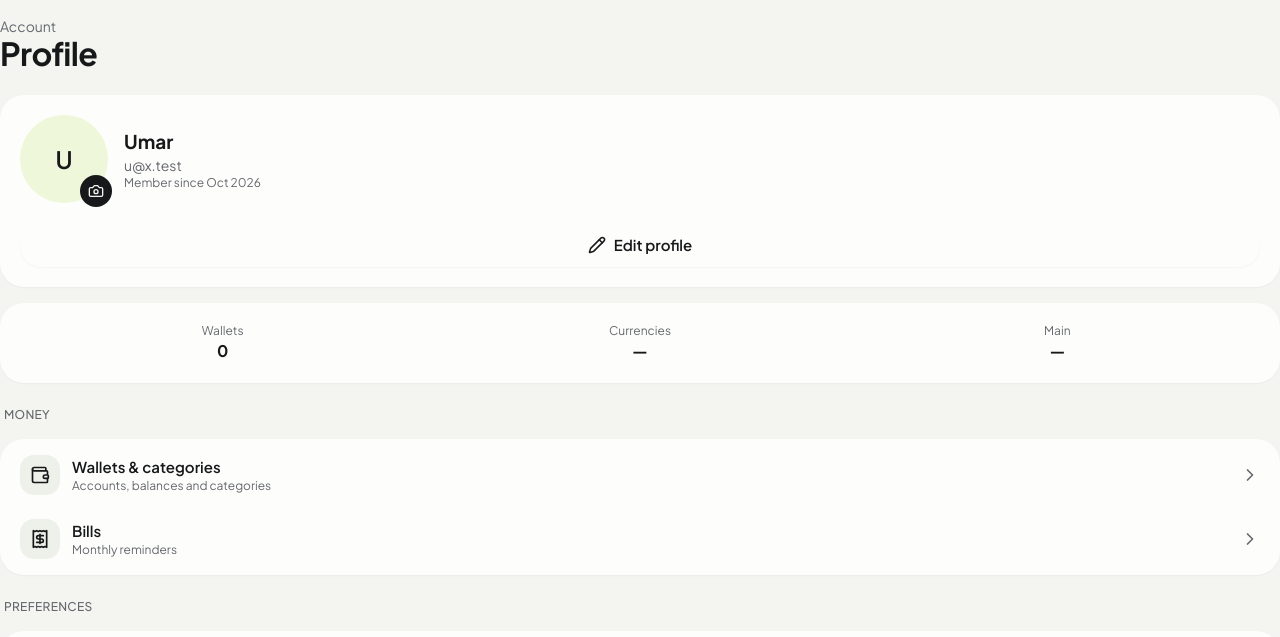
Face ID lock switch › reopens Edit profile with the saved values, not stale edits
The width and height of the screenshot is (1280, 637).
Click the button "Edit profile" at (640, 245), box [20,223,1260,267]
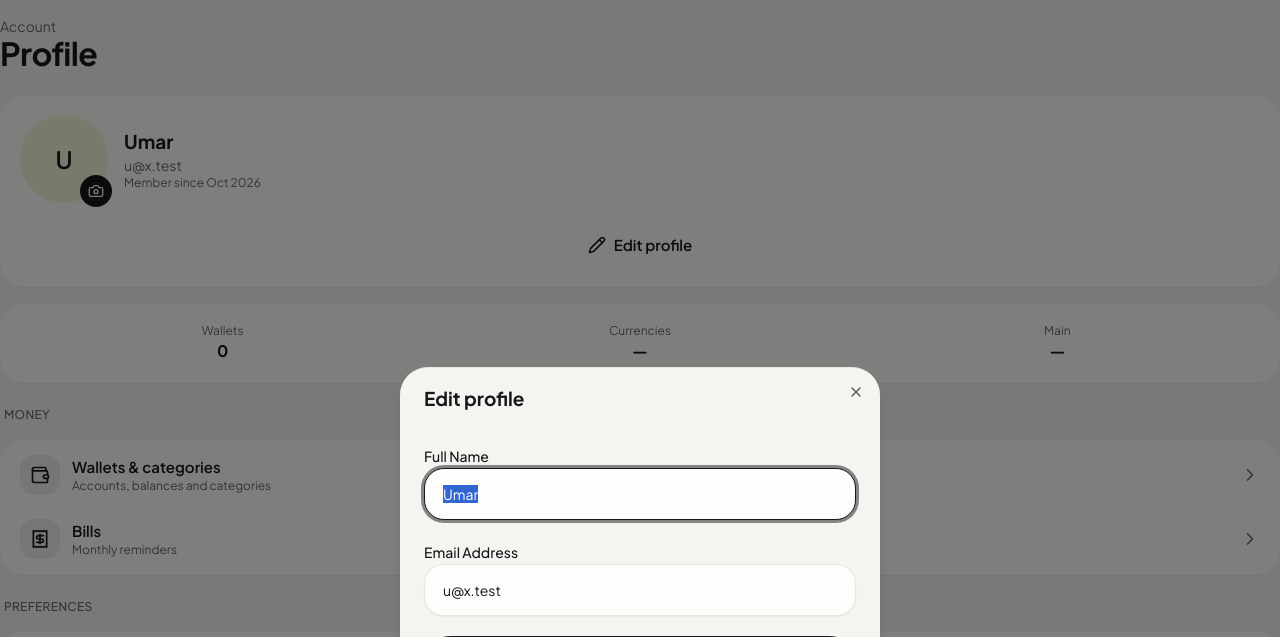
Replace the text in the field labelled "Full Name" with "Typed" at (640, 494), box [424,468,856,520]
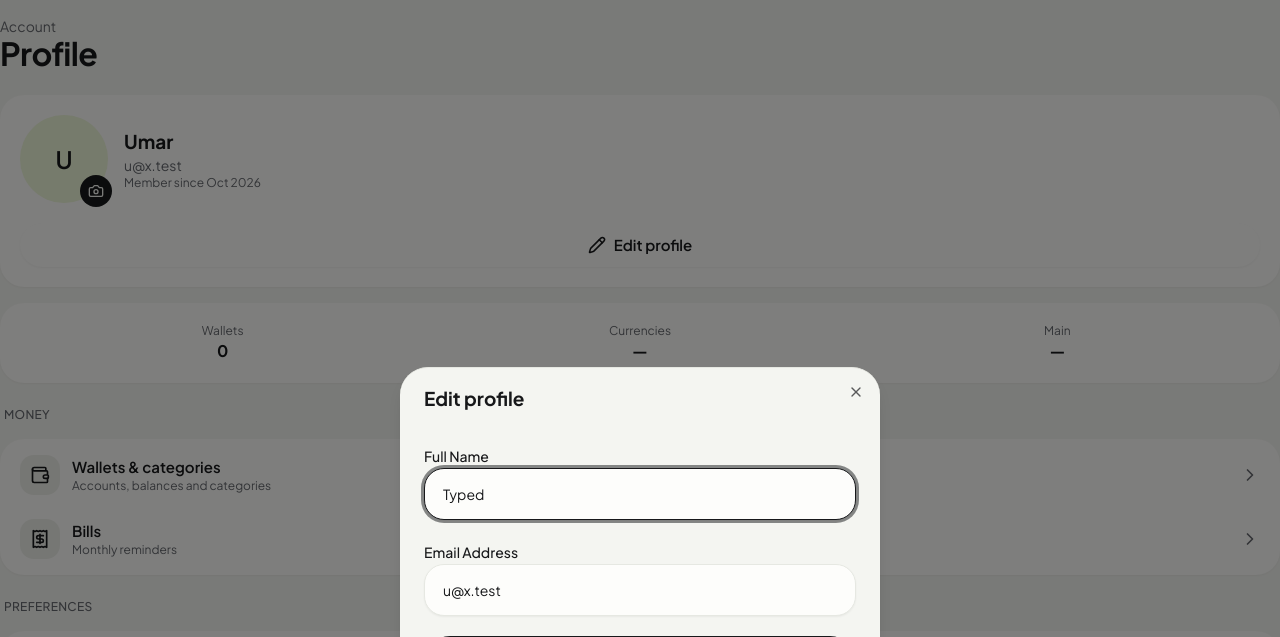
Press Escape in the field labelled "Full Name", box [424,468,856,520]
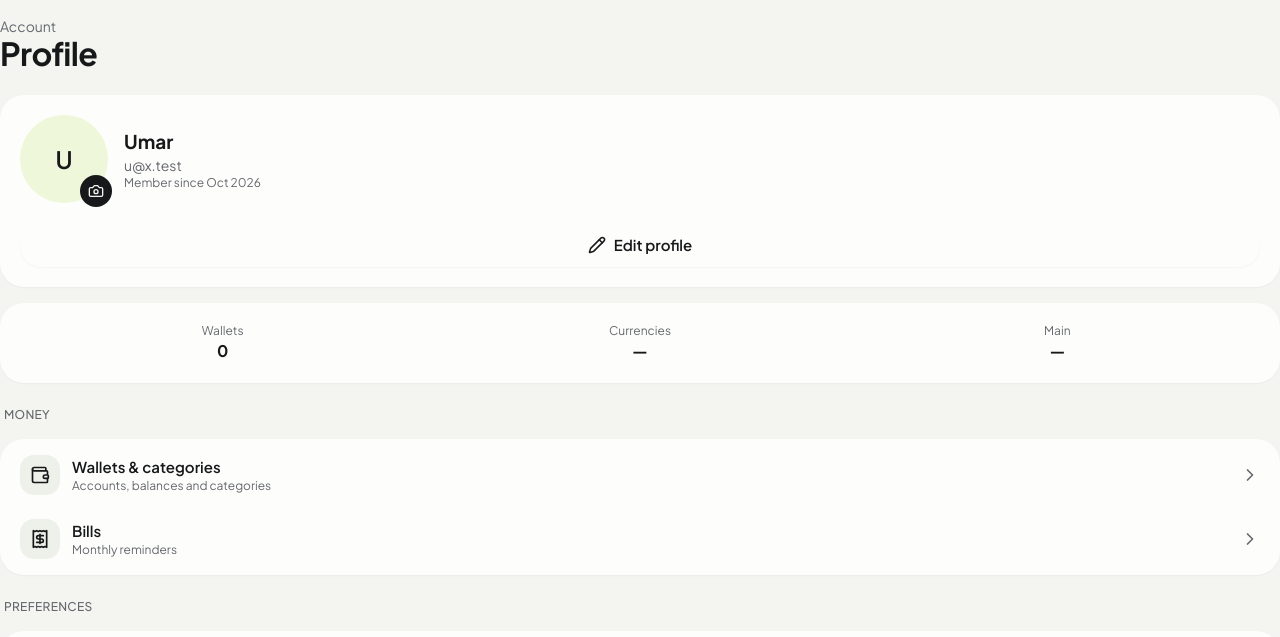
Check: the label labelled "Full Name" is gone
Click the button "Edit profile" at (640, 245), box [20,223,1260,267]
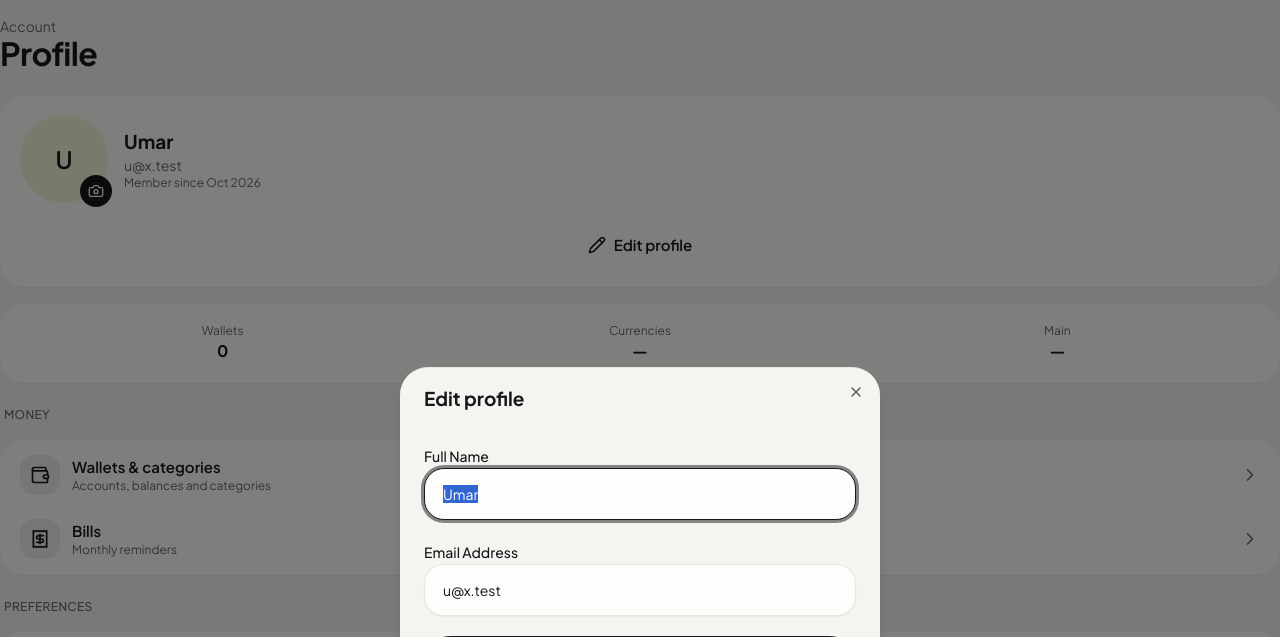
Check: the field labelled "Full Name" holds "Umar", box [424,468,856,520]
